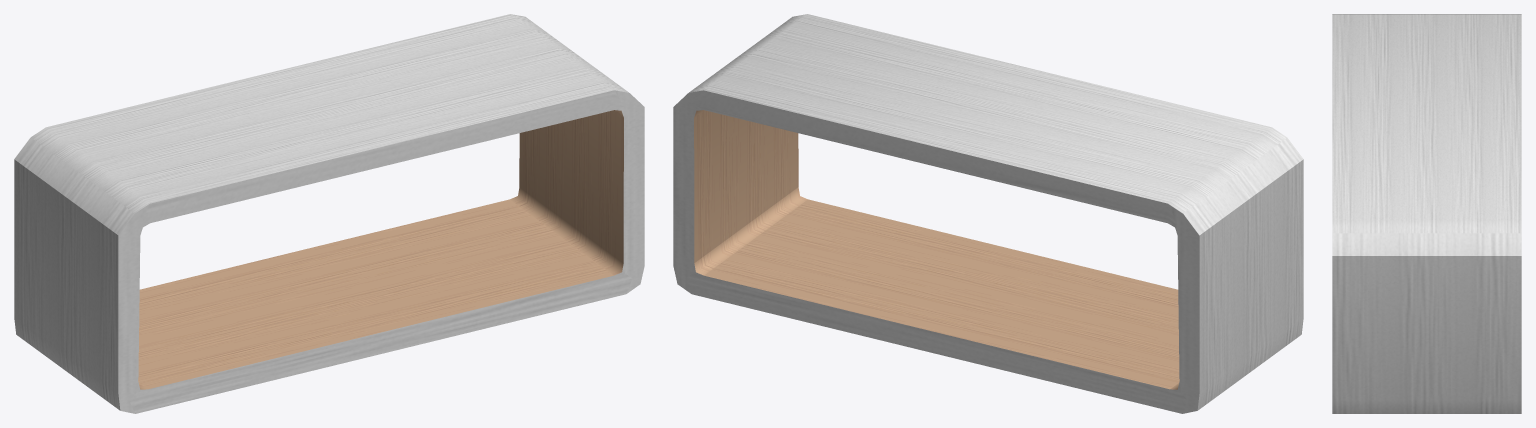
Rendered from Wall_Shelf_01_L.FBX.
3 renders of one model, left to right at view 1: azimuth 30°, elevation 25°; view 2: azimuth 150°, elevation 25°; view 3: azimuth 270°, elevation 25°, orthographic. The views are drawn at different scales.
Visible parts, largest first — view 1: Wall_Shelf; view 2: Wall_Shelf; view 3: Wall_Shelf.
Boxes of the visible parts, box(x1,y1,x2,y2) form: Wall_Shelf: box(14, 14, 644, 413); Wall_Shelf: box(673, 14, 1303, 413); Wall_Shelf: box(1332, 14, 1521, 413).
Size of the model in its own units: 160 by 60.21 by 54.97.
